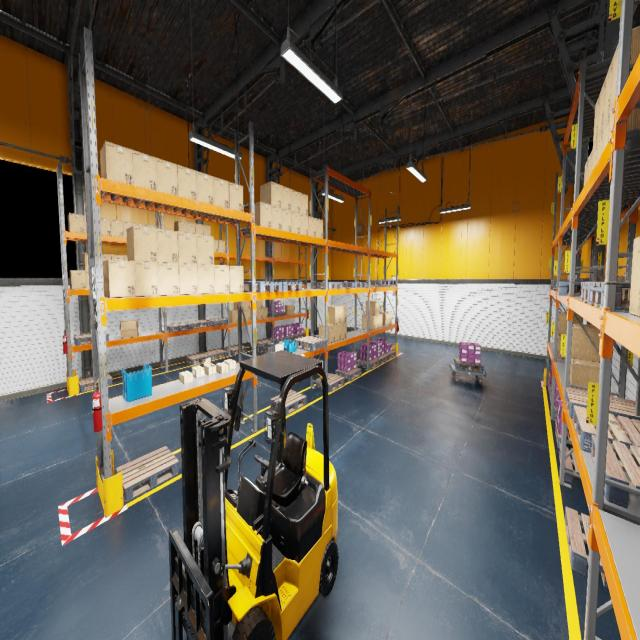box: (610, 26, 640, 111), (569, 359, 612, 395), (100, 140, 133, 185), (102, 260, 136, 298), (126, 225, 158, 262), (571, 325, 600, 362), (132, 150, 157, 190), (629, 236, 640, 316), (626, 71, 640, 131), (156, 157, 178, 195), (134, 262, 158, 296), (157, 229, 178, 263), (177, 165, 197, 200), (158, 263, 179, 295), (603, 58, 613, 125), (178, 263, 198, 295), (178, 232, 197, 264), (196, 171, 214, 204), (250, 202, 272, 228), (260, 182, 281, 208), (558, 312, 582, 334), (198, 264, 215, 294), (197, 234, 214, 264), (213, 177, 229, 208), (598, 77, 606, 137), (214, 265, 230, 293), (592, 94, 600, 148), (229, 181, 243, 211), (229, 265, 244, 293), (318, 323, 335, 343), (602, 112, 610, 153), (120, 320, 138, 338), (69, 270, 86, 289), (68, 213, 84, 233), (596, 126, 603, 164), (271, 206, 282, 230), (328, 305, 341, 324), (608, 102, 614, 142), (333, 304, 346, 322), (204, 357, 216, 375), (291, 189, 300, 213), (282, 186, 291, 210), (282, 208, 291, 232), (111, 219, 123, 237), (592, 138, 598, 173), (100, 217, 111, 236), (291, 211, 300, 233), (179, 370, 193, 384), (362, 315, 375, 330), (557, 334, 565, 358), (366, 300, 379, 314), (300, 193, 308, 215), (123, 221, 134, 237), (308, 216, 316, 237), (300, 214, 308, 235), (216, 362, 229, 374), (174, 220, 187, 232), (102, 253, 111, 270), (380, 312, 392, 324), (192, 366, 204, 378), (316, 218, 323, 238), (224, 359, 236, 370), (588, 150, 592, 180), (584, 158, 588, 186), (335, 323, 341, 341), (218, 240, 226, 253), (371, 315, 378, 329), (187, 222, 195, 234), (285, 304, 294, 314), (195, 223, 203, 234), (341, 322, 346, 339), (83, 253, 88, 270), (250, 308, 257, 320), (230, 310, 237, 322), (203, 225, 211, 235), (244, 309, 250, 321), (86, 270, 90, 288), (112, 254, 124, 260), (234, 302, 244, 309), (573, 323, 595, 326), (262, 307, 268, 318), (256, 300, 262, 308), (244, 301, 250, 309), (214, 240, 218, 252), (258, 308, 262, 319), (379, 314, 382, 328), (146, 224, 156, 228), (135, 222, 145, 226), (84, 215, 86, 233), (102, 271, 104, 288), (242, 310, 244, 321), (124, 256, 127, 260)
forklift: (180, 350, 338, 640)
pallets: (572, 406, 640, 460), (590, 435, 640, 508), (565, 507, 608, 589), (116, 446, 178, 502), (565, 388, 640, 430), (590, 282, 630, 310), (580, 282, 630, 304), (270, 390, 306, 415), (559, 445, 580, 483), (79, 373, 112, 392), (316, 372, 344, 392), (294, 336, 327, 351), (555, 421, 572, 448), (74, 332, 108, 345), (454, 358, 483, 373), (244, 282, 282, 292), (336, 367, 362, 381), (266, 281, 302, 291), (566, 282, 600, 292), (552, 279, 588, 288), (560, 281, 587, 293), (558, 282, 581, 296), (186, 353, 210, 365), (357, 358, 380, 369), (204, 349, 227, 360), (167, 322, 191, 332), (185, 320, 210, 329), (226, 345, 247, 355), (314, 282, 342, 288), (206, 318, 227, 326), (376, 354, 388, 364), (384, 350, 396, 360), (269, 337, 286, 344), (337, 281, 353, 288), (256, 339, 272, 346), (367, 280, 389, 285), (348, 282, 365, 288), (268, 312, 286, 316), (284, 335, 296, 340), (294, 333, 305, 338), (554, 406, 558, 418), (296, 280, 306, 284), (389, 280, 396, 285), (549, 388, 551, 404), (548, 380, 550, 394), (551, 280, 553, 287)
